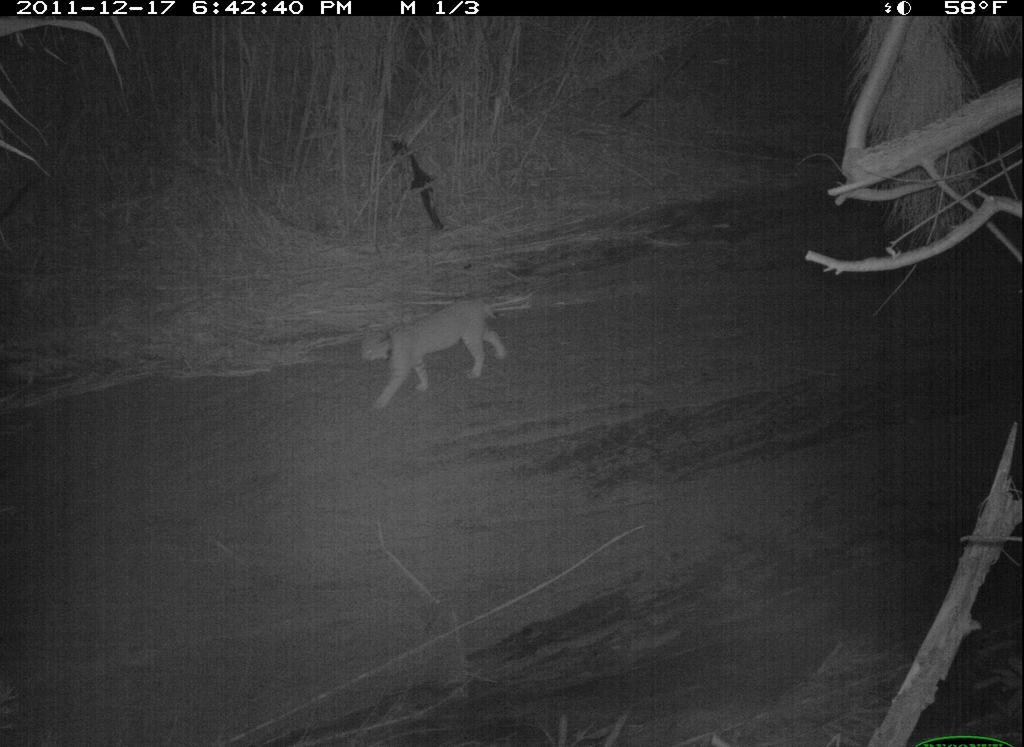bobcat: (344, 281, 546, 419)
